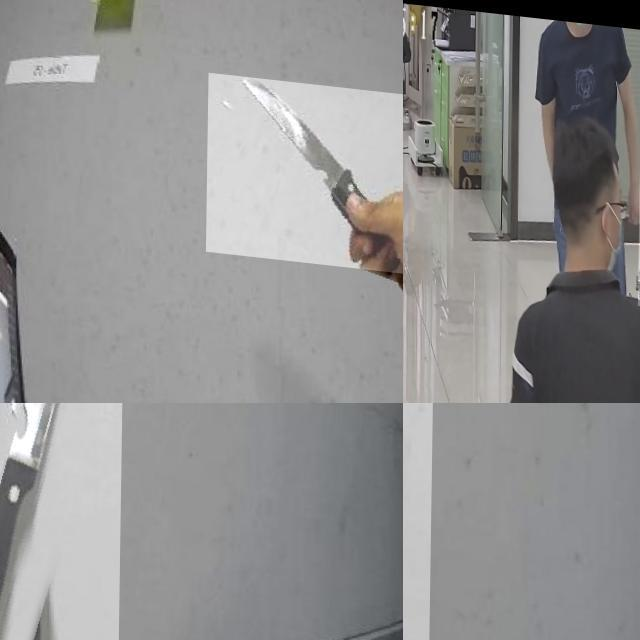-: (206, 66, 403, 266), (0, 403, 125, 640), (403, 403, 491, 640)
